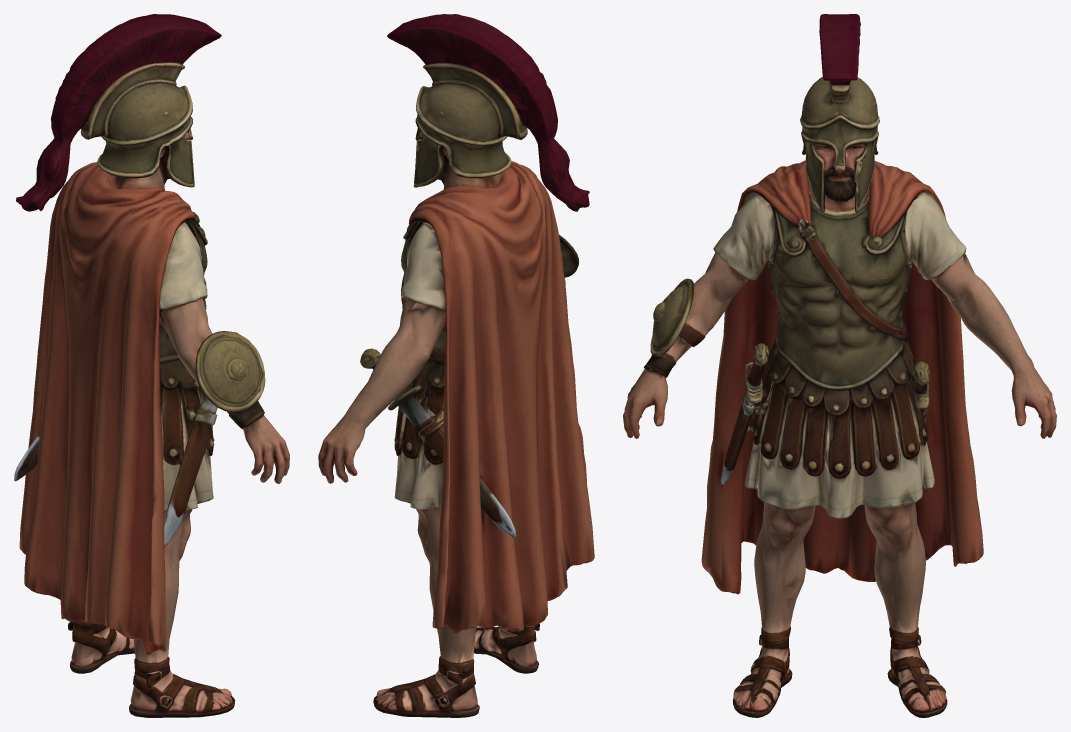
Rendered from odysseus-in.glb.
The picture shows the model from 3 angles, left to right: view 1: azimuth 30°, elevation 25°; view 2: azimuth 150°, elevation 25°; view 3: azimuth 270°, elevation 25°; orthographic projection. The views are drawn at different scales.
Parts seen in each view (by area): view 1: tripo_node_cbf9b190-a039-407d-8e7c-2d509b2c69ce; view 2: tripo_node_cbf9b190-a039-407d-8e7c-2d509b2c69ce; view 3: tripo_node_cbf9b190-a039-407d-8e7c-2d509b2c69ce.
Part boxes in pixels (x1,y1,x2,y2): tripo_node_cbf9b190-a039-407d-8e7c-2d509b2c69ce: (14, 14, 289, 717); tripo_node_cbf9b190-a039-407d-8e7c-2d509b2c69ce: (318, 14, 594, 717); tripo_node_cbf9b190-a039-407d-8e7c-2d509b2c69ce: (623, 14, 1056, 717).
Bounding box in the file's own units: 0.3089 × 0.9998 × 0.5832.
1 material, 1 textured.
